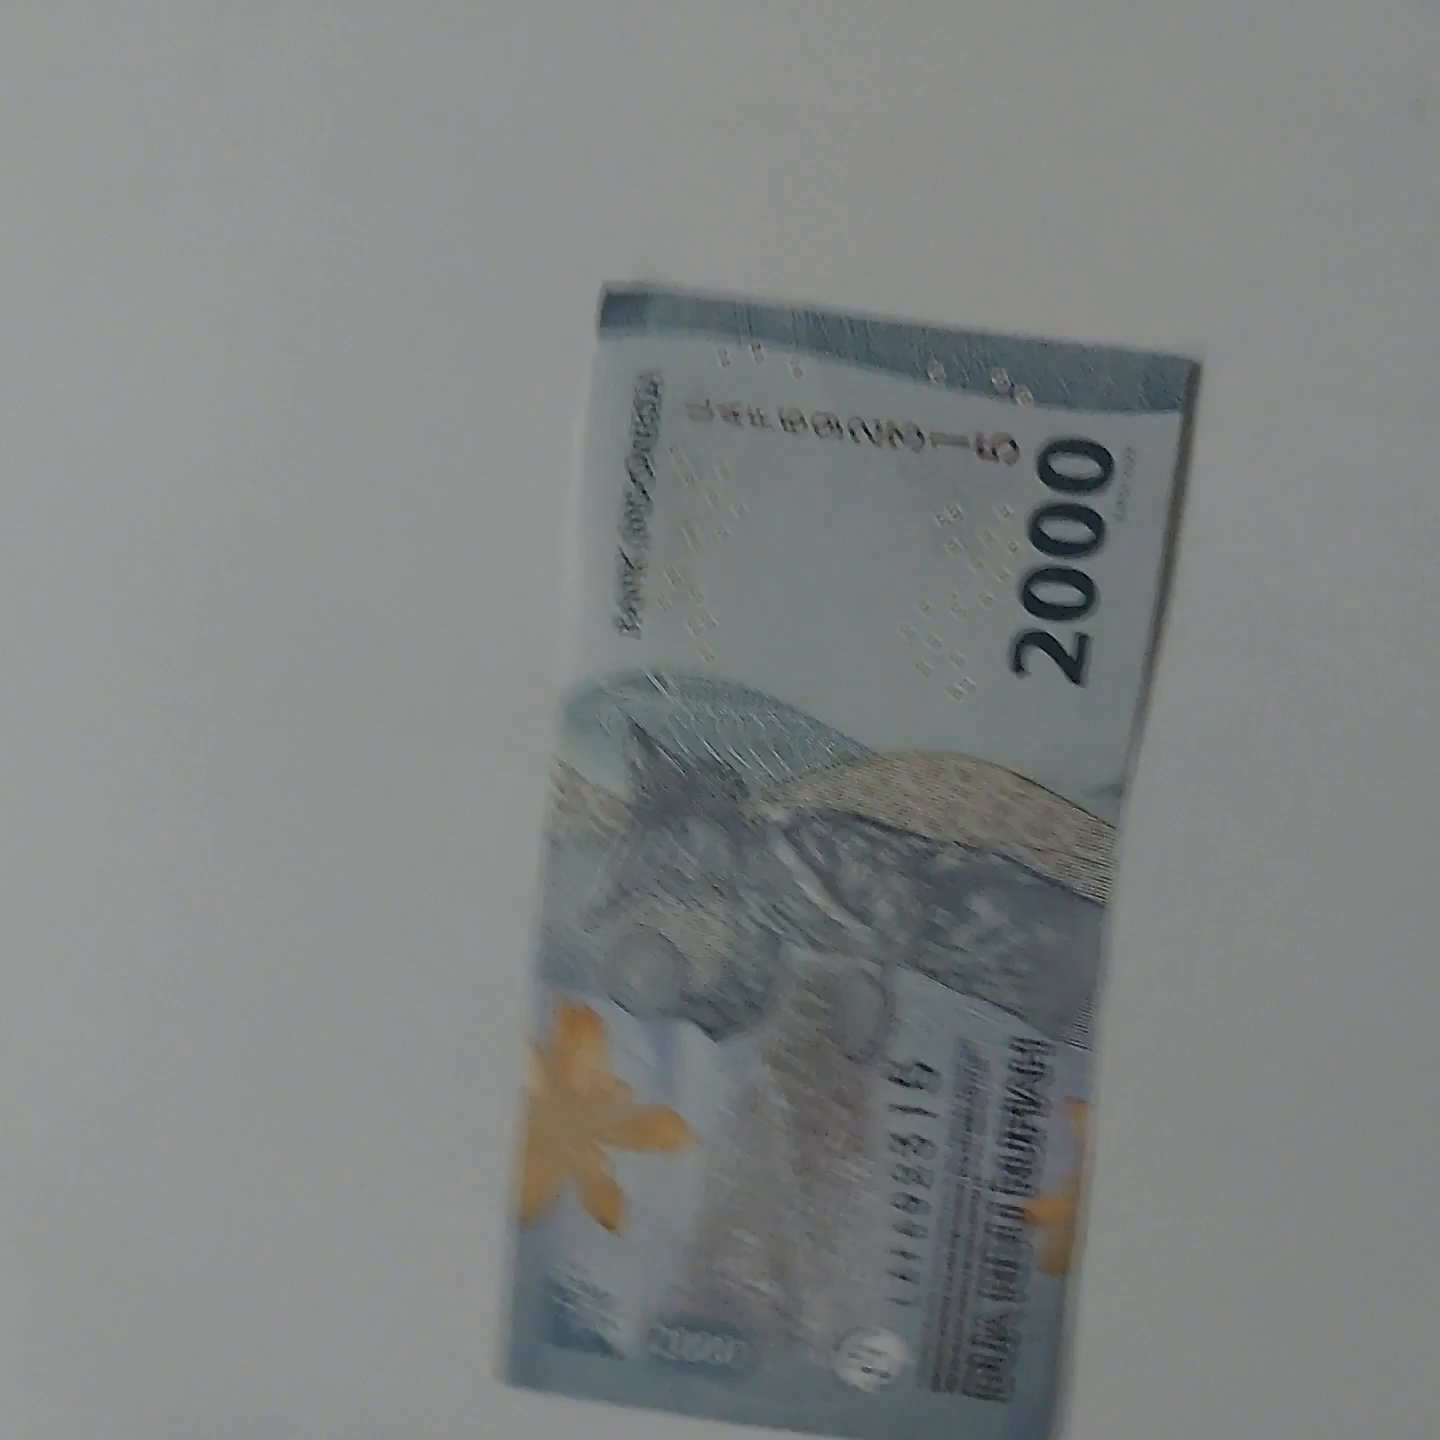2k: (520, 215, 1213, 1440)
